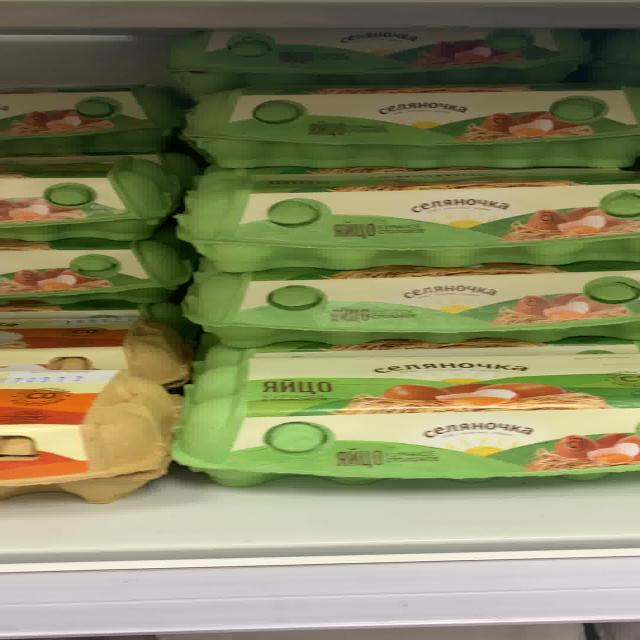egg box: (166, 345, 638, 486), (152, 166, 634, 268), (168, 81, 634, 166), (166, 266, 633, 342), (166, 28, 593, 96)
